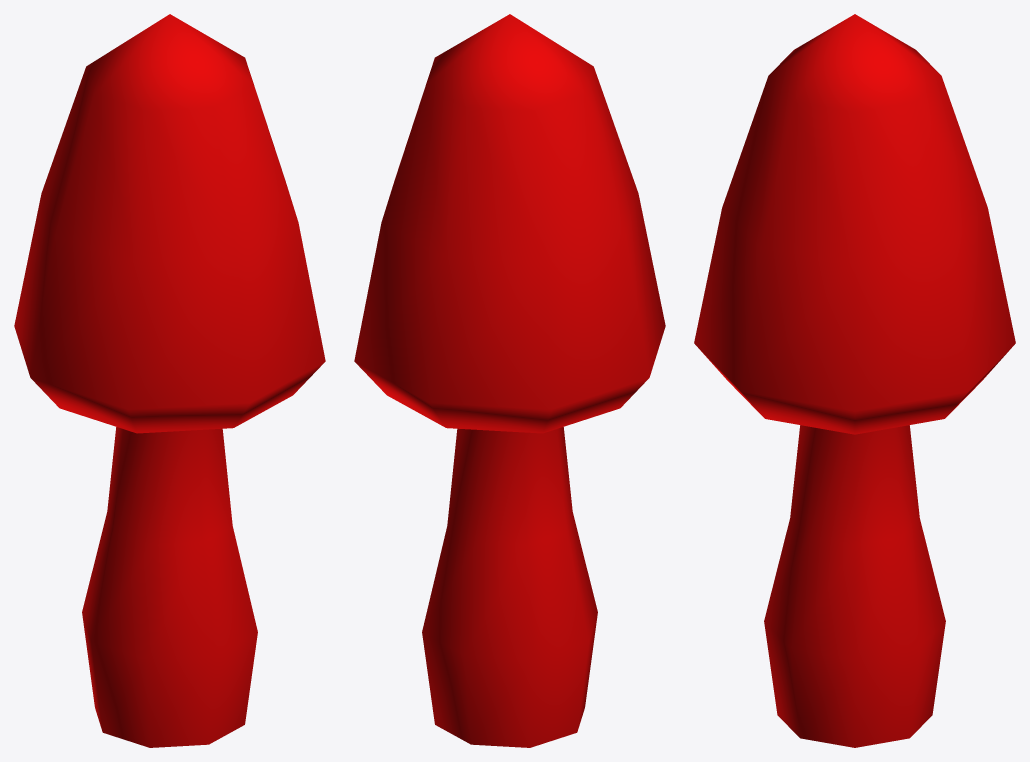
File: Mushroom04.fbx
3 renders of one model, left to right at view 1: azimuth 30°, elevation 25°; view 2: azimuth 150°, elevation 25°; view 3: azimuth 270°, elevation 25°, orthographic.
Parts seen in each view (by area): view 1: Mushroom04; view 2: Mushroom04; view 3: Mushroom04.
Part boxes in pixels (x1,y1,x2,y2): Mushroom04: (14,14,325,747); Mushroom04: (354,14,665,747); Mushroom04: (694,14,1015,747).
Bounding box in the file's own units: 0.3098 × 0.7445 × 0.3098.
